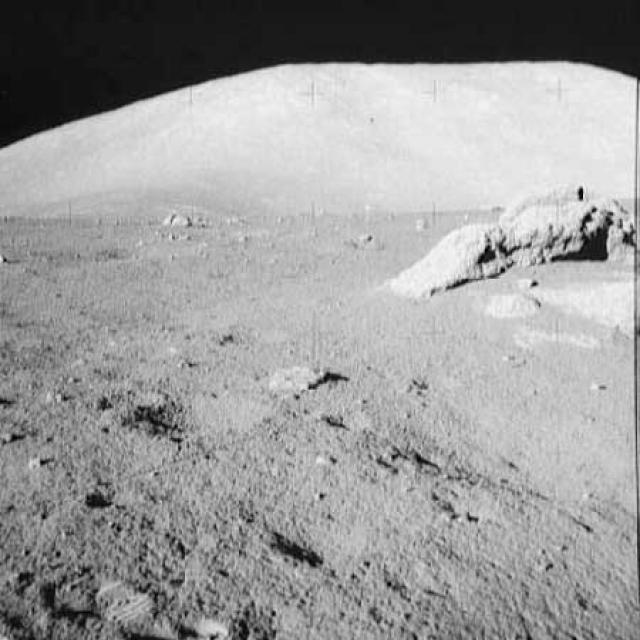rock: (501, 179, 640, 266), (379, 211, 506, 286), (270, 360, 338, 400), (479, 286, 544, 324), (157, 202, 196, 233)
